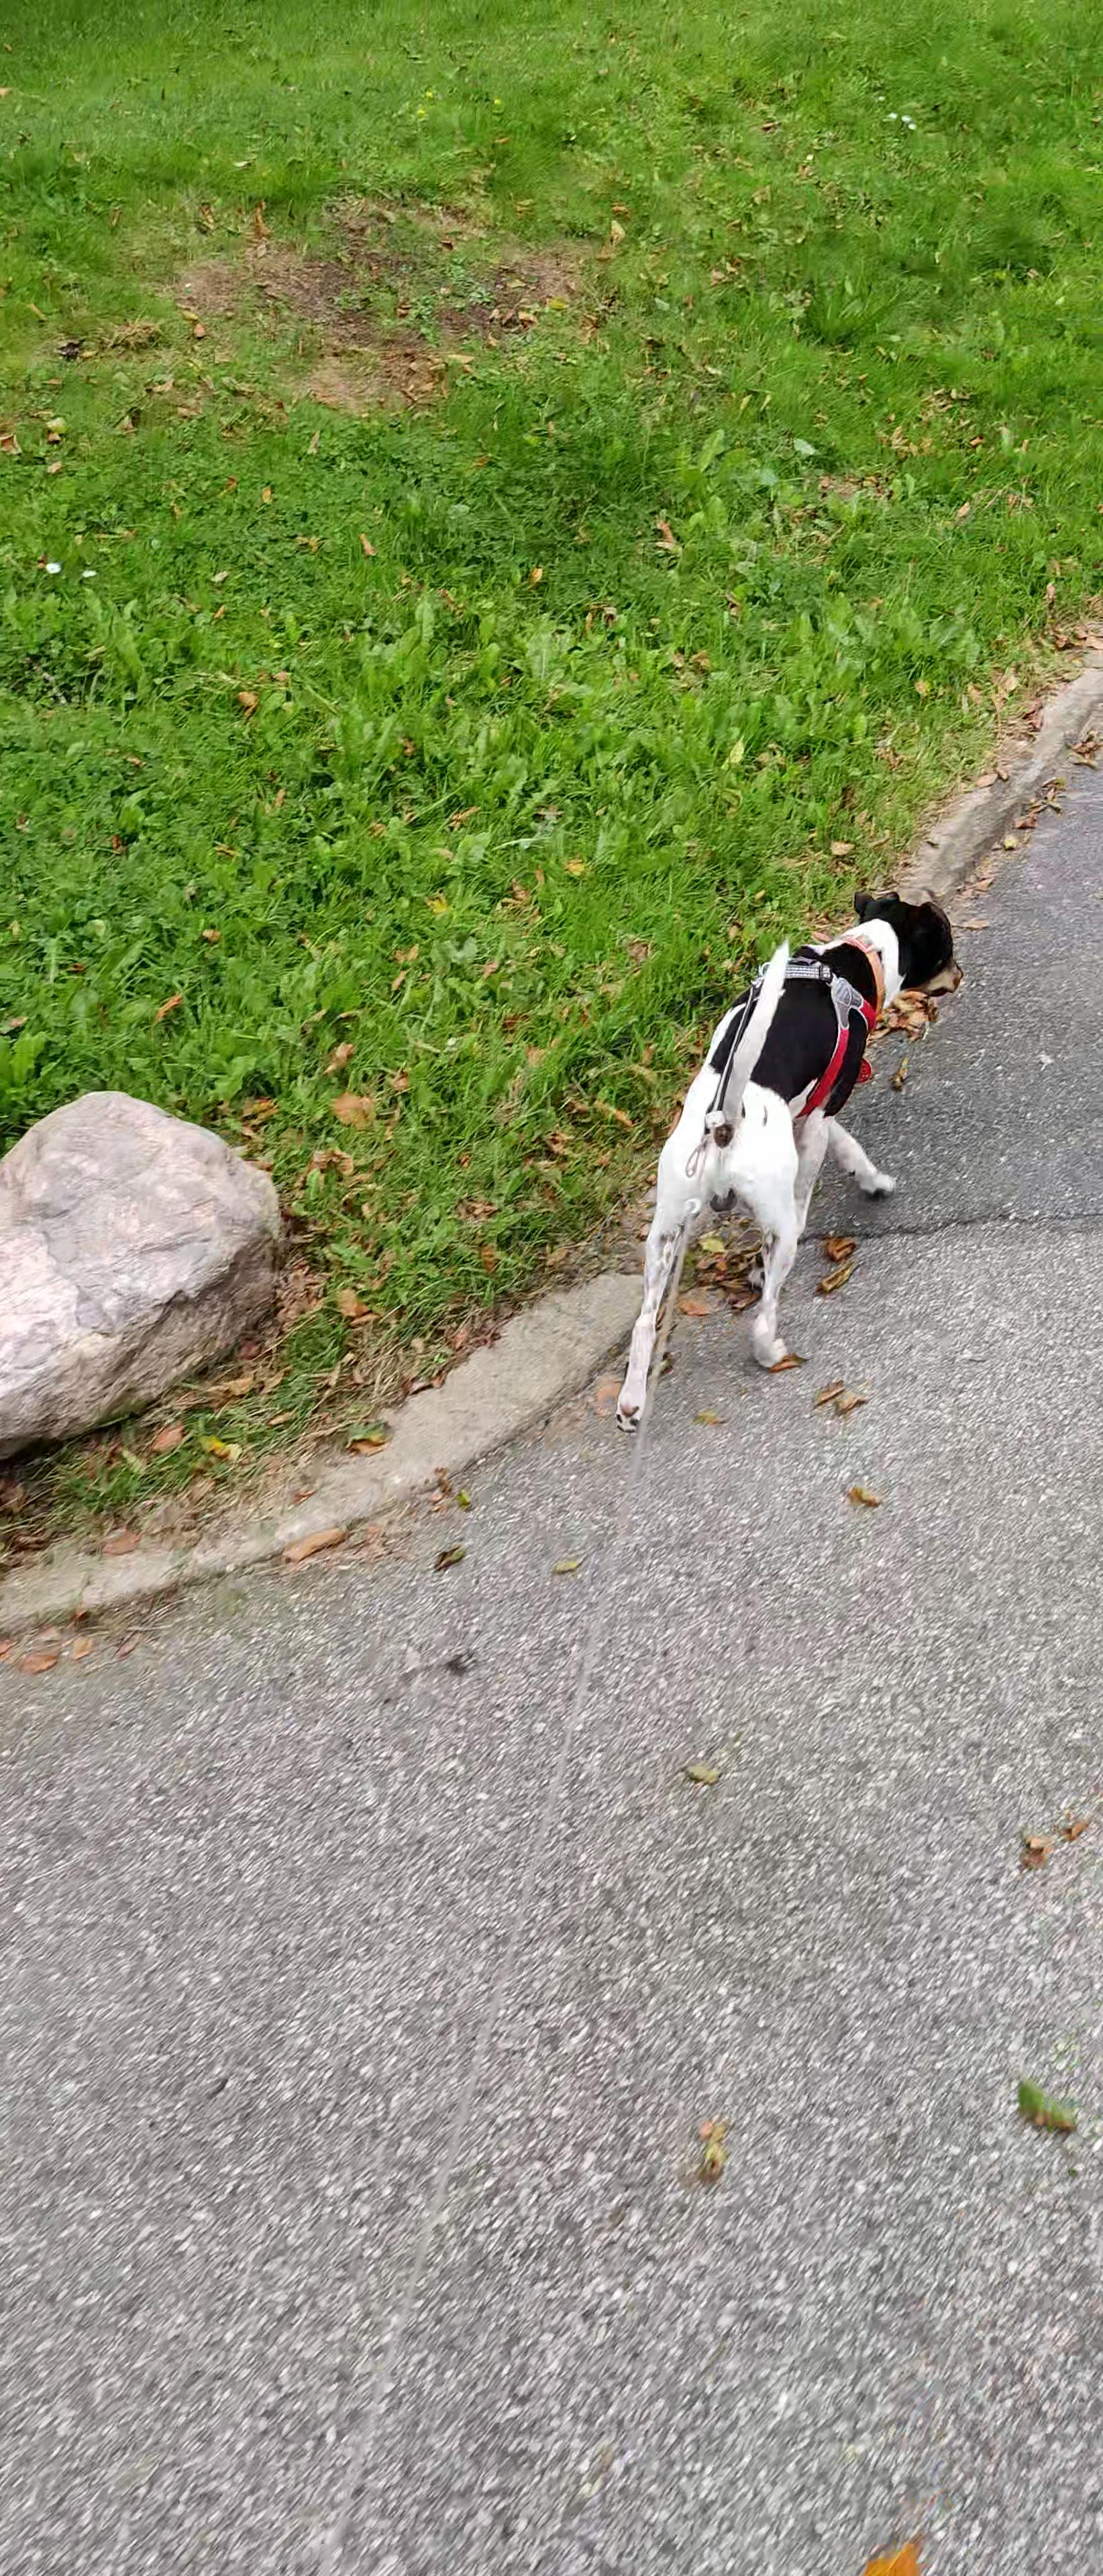Dog: (605, 885, 967, 1441)
